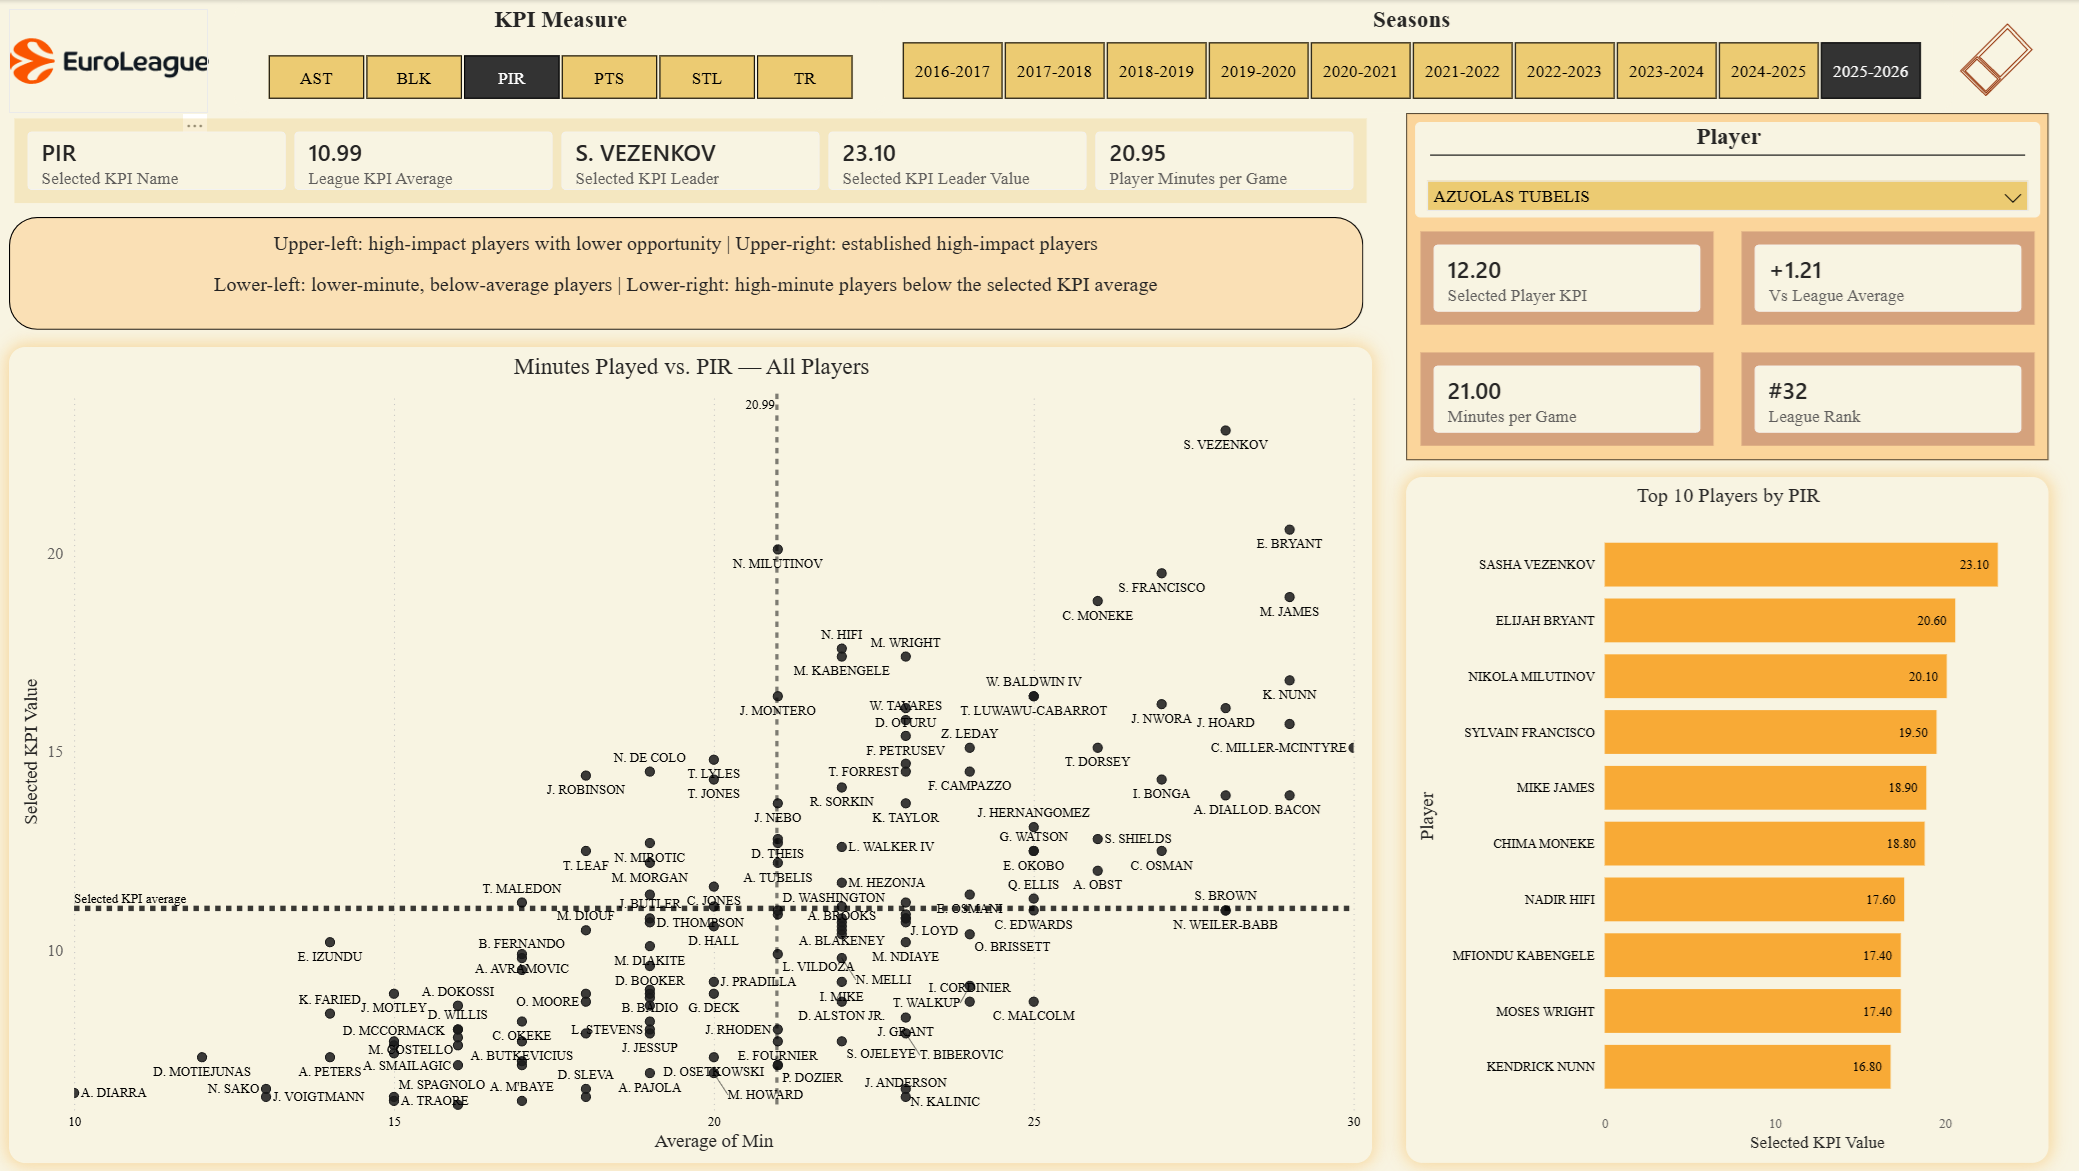

What the dashboard file says about the page in this screenshot:
{"tool":"powerbi","page":{"name":"Players stats/League context","canvas":[1280,720],"ordinal":4},"visuals":[{"type":"scatterChart","title":"KPI Scatter all players","fields":{"X":["Append_stats_traditional.Min"],"Category":["Append_stats_traditional.Player"],"Y":["Measures (2).Selected KPI Value"]},"box":[0,80,832,640],"z":0},{"type":"slicer","title":"Seasons","fields":{"Values":["Seasons Dimension.Seasons"]},"box":[176,0,1104,80],"z":1000},{"type":"shape","box":[0,0,176,80],"z":2000},{"type":"image","box":[32,16,128,48],"z":3000},{"type":"clusteredBarChart","fields":{"Category":["dimension-players-names-formatted.Player"],"Y":["Measures (2).Selected KPI Value"]},"box":[832,192,448,528],"z":4000},{"type":"slicer","title":"KPI","fields":{"Values":["KPI Selector.KPI"]},"box":[832,80,448,112],"z":5000}]}

Visuals, with their boxes in screenshot pixels (x1, y1, x2, y2), scaled from the page's 1280x720 canvas onto the 2079x1171 screenshot:
"KPI Scatter all players" scatterChart: (0,130,1351,1170)
"Seasons" slicer: (286,0,2078,130)
shape: (0,0,286,130)
image: (52,26,260,104)
clusteredBarChart - dimension-players-names-formatted.Player x Measures (2).Selected KPI Value: (1351,312,2078,1170)
"KPI" slicer: (1351,130,2078,312)
